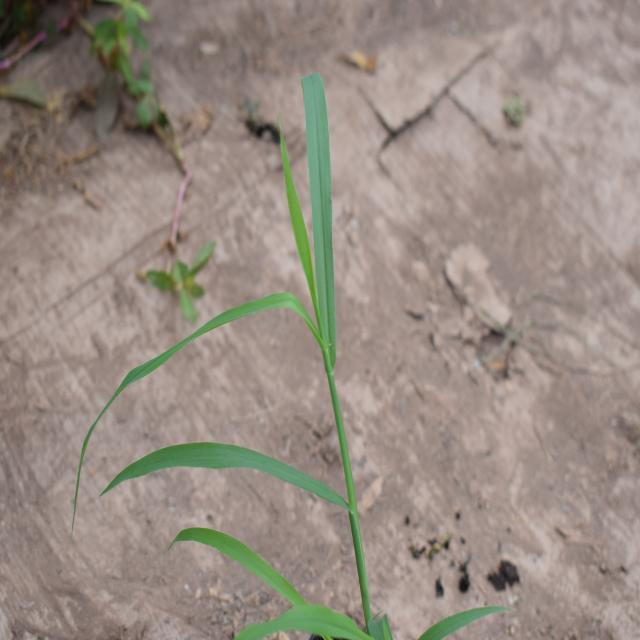crabgrass: (112, 77, 360, 578)
